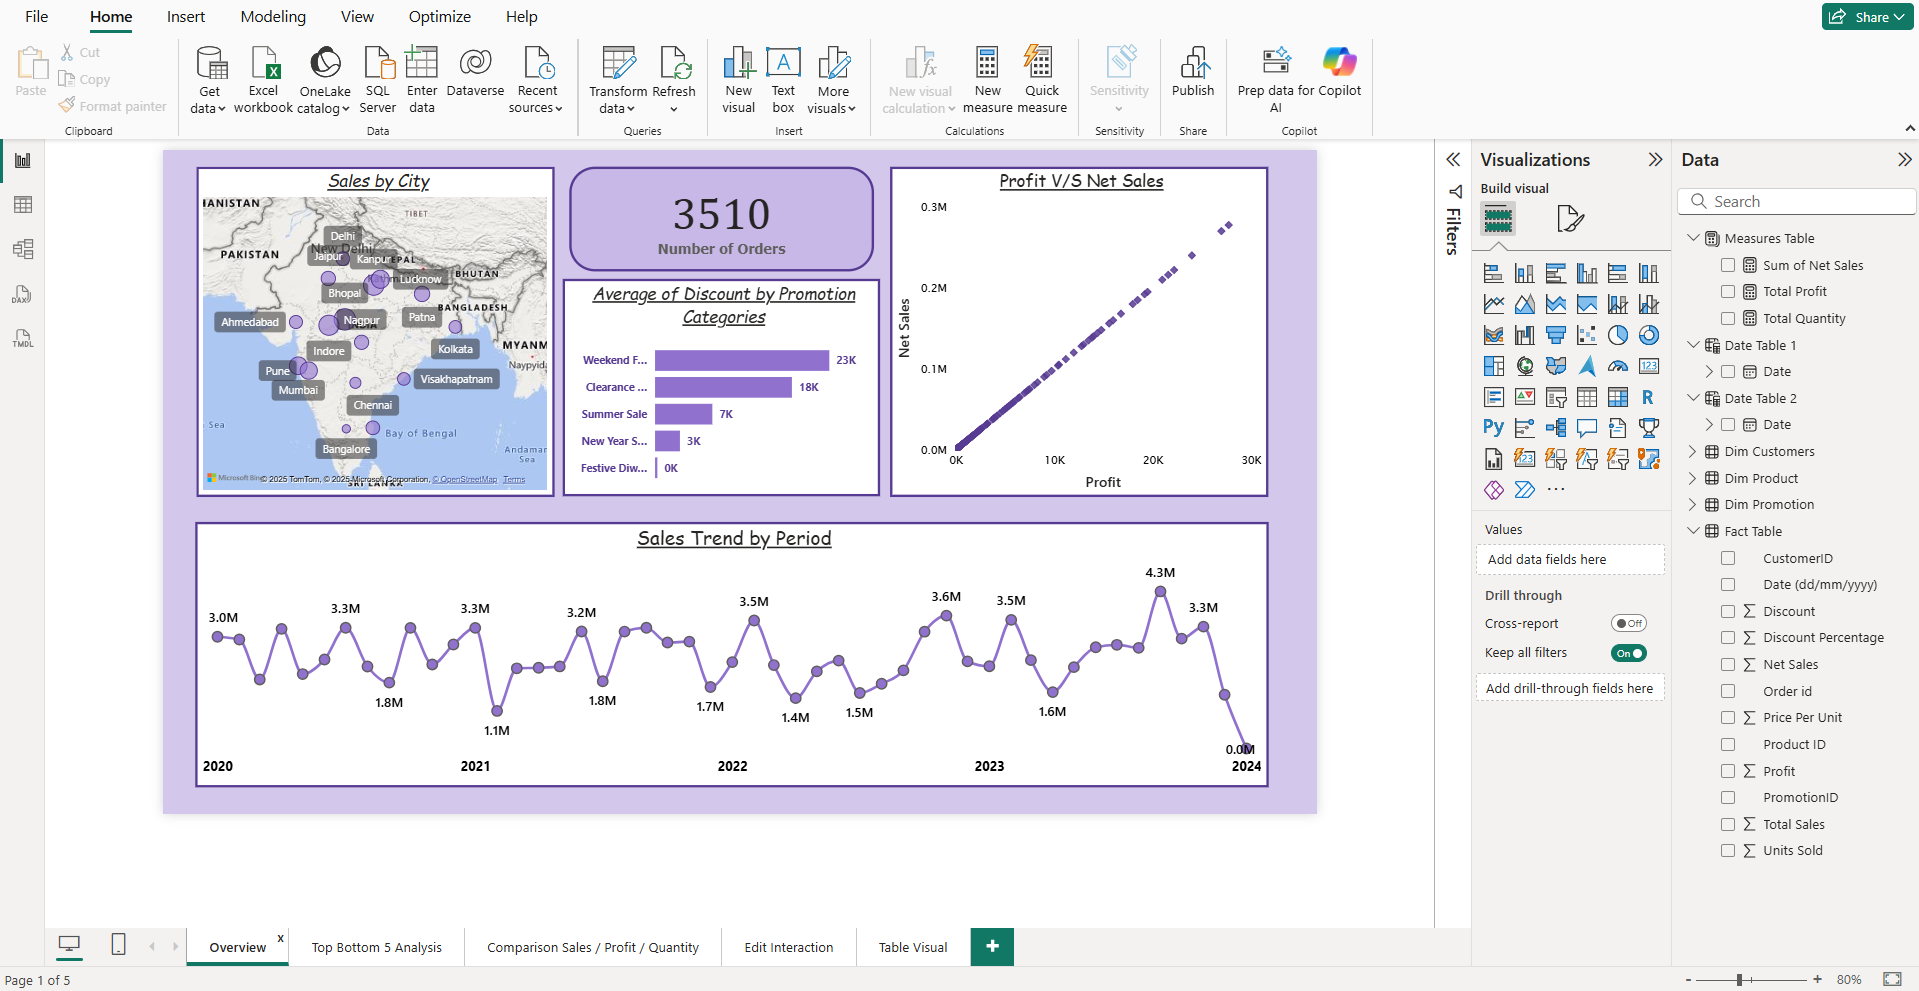

The page's visual inventory and layout, read from the dashboard file:
{"tool":"powerbi","page":{"name":"Overview","canvas":[1280,720],"ordinal":0},"visuals":[{"type":"lineChart","title":"Sales Trend by Period","fields":{"Y":["Sum(Fact Table.Net Sales)"],"Category":["Date Table 1.Date.Variation.Date Hierarchy.Year","Date Table 1.Date.Variation.Date Hierarchy.Quarter","Date Table 1.Date.Variation.Date Hierarchy.Month","Date Table 1.Date.Variation.Date Hierarchy.Day"]},"box":[36.3,410,1208.4,298.7],"z":0},{"type":"scatterChart","title":"Profit V/S Net Sales","fields":{"Y":["Fact Table.Net Sales"],"X":["Fact Table.Profit"]},"box":[810.9,18.2,433.8,372.5],"z":1000},{"type":"barChart","title":"Average of Discount by Promotion Categories","fields":{"Y":["Avg(Fact Table.Discount)"],"Category":["Dim Promotion.Promotion Name"]},"box":[449.7,145.4,357.8,245.3],"z":2000},{"type":"map","title":"Sales by City","fields":{"Size":["Sum(Fact Table.Net Sales)"],"Category":["Dim Customers.City"]},"box":[37.5,18.2,407.7,372.5],"z":3000},{"type":"card","fields":{"Values":["Count(Fact Table.Index)"]},"box":[457.7,18.2,343,118.1],"z":4000}]}

Visuals, with their boxes on the page's 1280x720 design canvas (x1, y1, x2, y2). These are canvas units, not pixel positions in the 1919x991 screenshot, which may show the page scaled, cropped or inside an application window:
"Sales Trend by Period" lineChart: bbox=(36, 410, 1245, 709)
"Profit V/S Net Sales" scatterChart: bbox=(811, 18, 1245, 391)
"Average of Discount by Promotion Categories" barChart: bbox=(450, 145, 808, 391)
"Sales by City" map: bbox=(38, 18, 445, 391)
card - Count(Fact Table.Index): bbox=(458, 18, 801, 136)
